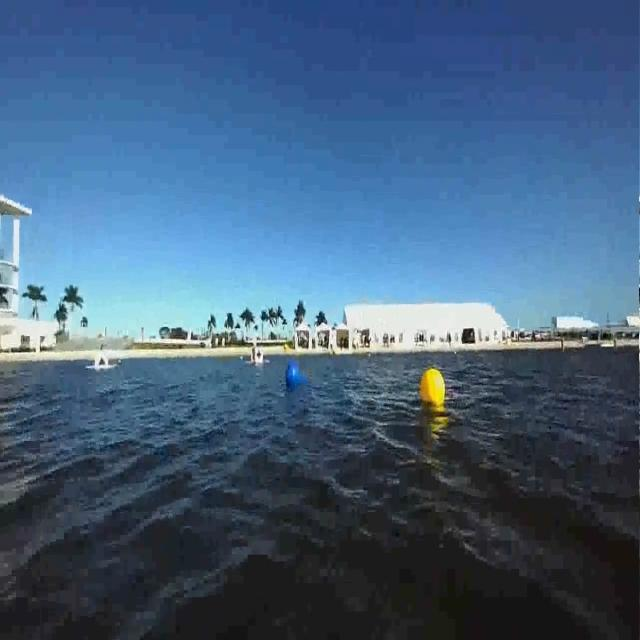blue-buoy: (284, 353, 306, 391)
yellow-buoy: (414, 367, 452, 411)
